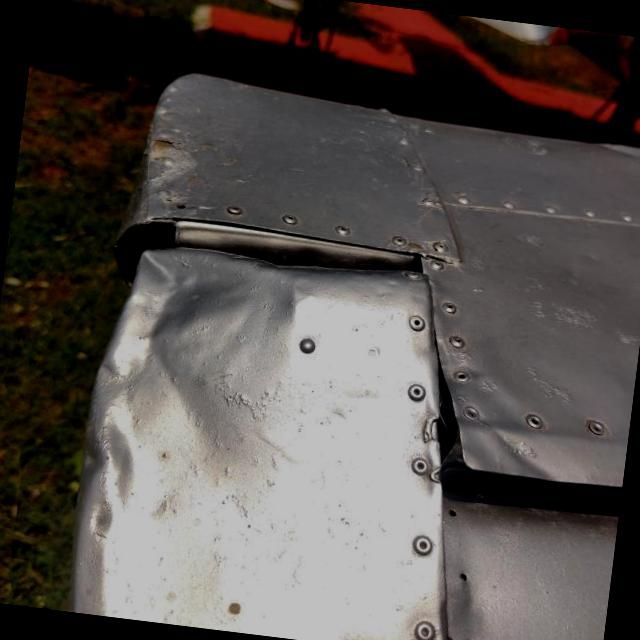Missing Fastener: (421, 499, 506, 640), (170, 198, 196, 218)
dent: (118, 237, 290, 385), (63, 366, 160, 618)
